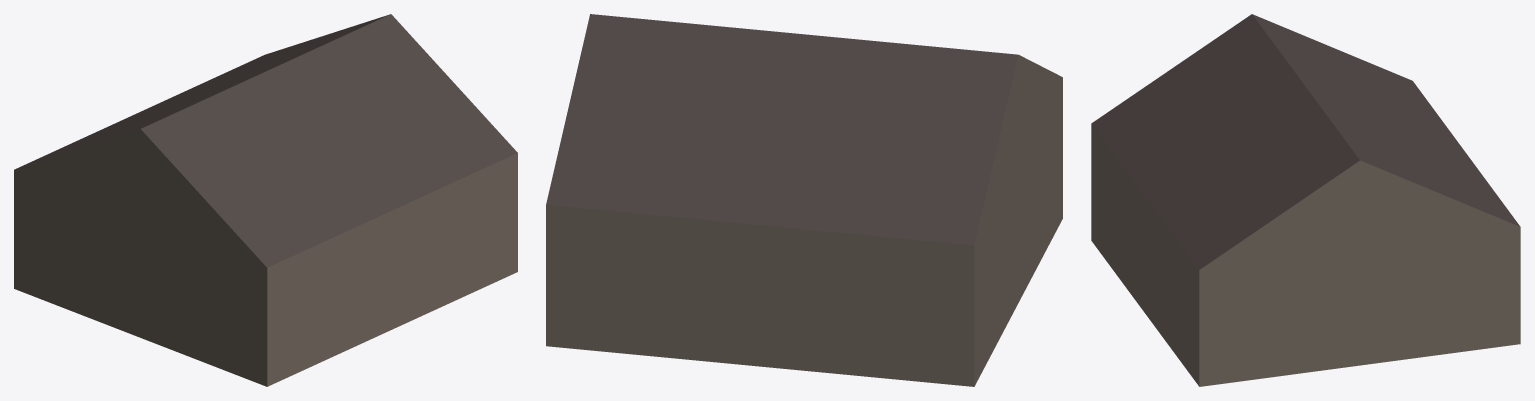
3 renders of one model, left to right at view 1: azimuth 30°, elevation 25°; view 2: azimuth 150°, elevation 25°; view 3: azimuth 270°, elevation 25°, orthographic. The views are drawn at different scales.
Visible parts, largest first — view 1: HP-w859457307; view 2: HP-w859457307; view 3: HP-w859457307.
Boxes of the visible parts, bbox=[...] form: HP-w859457307: bbox=[14, 14, 517, 386]; HP-w859457307: bbox=[546, 14, 1062, 386]; HP-w859457307: bbox=[1091, 14, 1520, 386].
Size of the model in its own units: 20.83 by 10.53 by 19.98.
